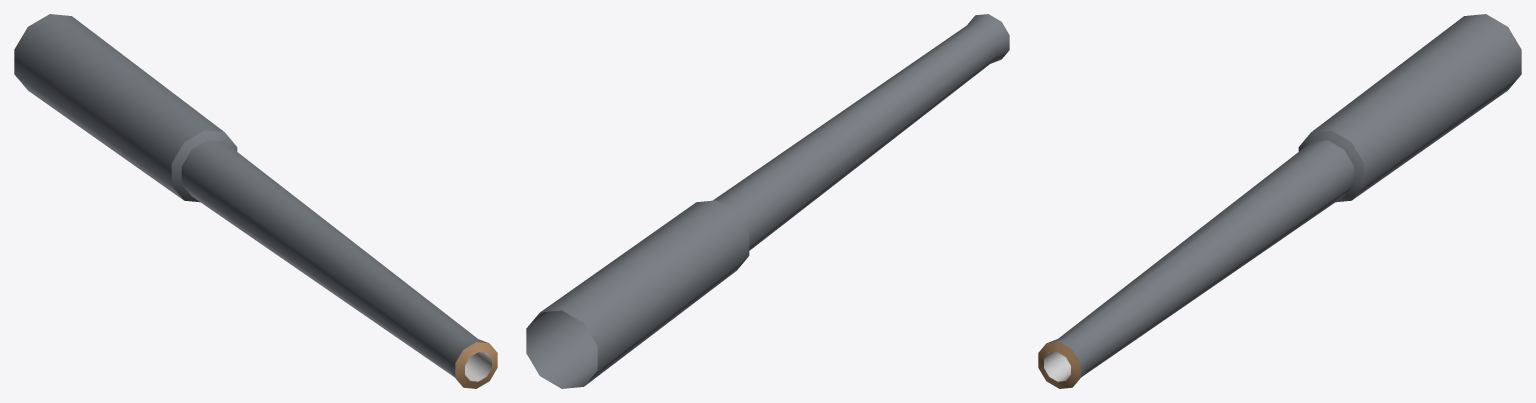
Rendered from agm_gun_305_barrel_001.obj.
3 views of the same model, side by side, from view 1: azimuth 30°, elevation 25°; view 2: azimuth 150°, elevation 25°; view 3: azimuth 330°, elevation 25° (orthographic).
Visible parts, largest first — view 1: agm_gun_305_barrel_001_details_4, agm_gun_305_barrel_001_details_3, agm_gun_305_barrel_001_details_2; view 2: agm_gun_305_barrel_001_details_4; view 3: agm_gun_305_barrel_001_details_4, agm_gun_305_barrel_001_details_3, agm_gun_305_barrel_001_details_2.
Boxes of the visible parts, x1,y1,x2,y2 form: agm_gun_305_barrel_001_details_4: (14, 14, 488, 377); agm_gun_305_barrel_001_details_3: (455, 342, 497, 388); agm_gun_305_barrel_001_details_2: (465, 352, 491, 381); agm_gun_305_barrel_001_details_4: (526, 14, 1009, 388); agm_gun_305_barrel_001_details_4: (1047, 14, 1521, 377); agm_gun_305_barrel_001_details_3: (1038, 342, 1080, 388); agm_gun_305_barrel_001_details_2: (1044, 352, 1070, 381).
Bounding box in the file's own units: 0.9329 × 0.9809 × 9.69.
